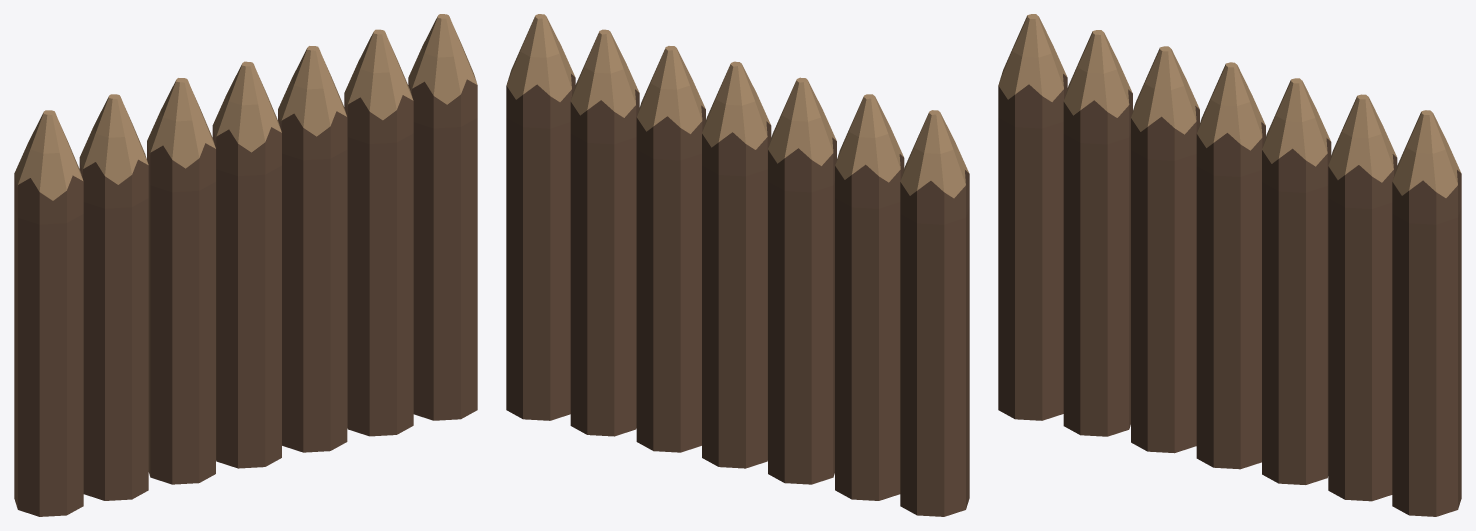
Rendered from PikeWall(S).fbx.
3 views of the same model, side by side, from view 1: azimuth 30°, elevation 25°; view 2: azimuth 150°, elevation 25°; view 3: azimuth 330°, elevation 25° (orthographic).
Visible parts, largest first — view 1: Pike.006; view 2: Pike.006; view 3: Pike.006.
Part boxes in pixels (<box>): Pike.006: <box>14,14,477,516</box>; Pike.006: <box>506,14,969,516</box>; Pike.006: <box>998,14,1461,516</box>.
Size of the model in its own units: 1470 by 1201 by 200.
